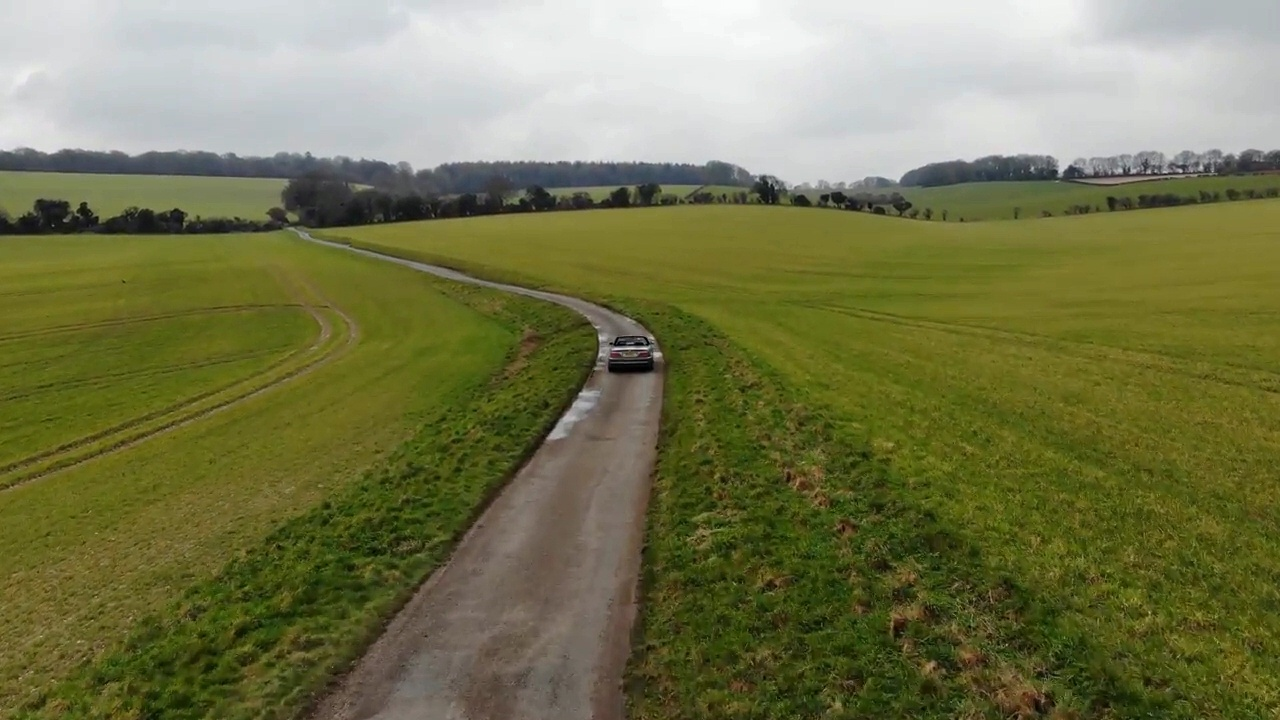araba: (610, 334, 657, 369)
